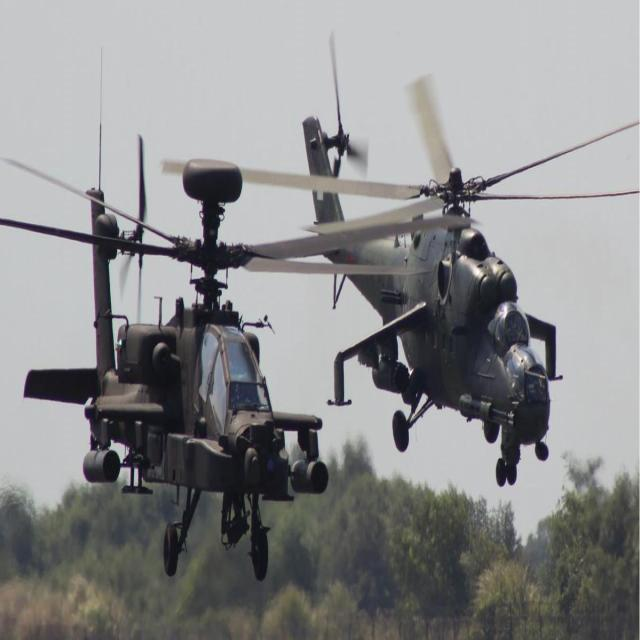MIL_HELO: (0, 122, 427, 576), (291, 47, 640, 497)
